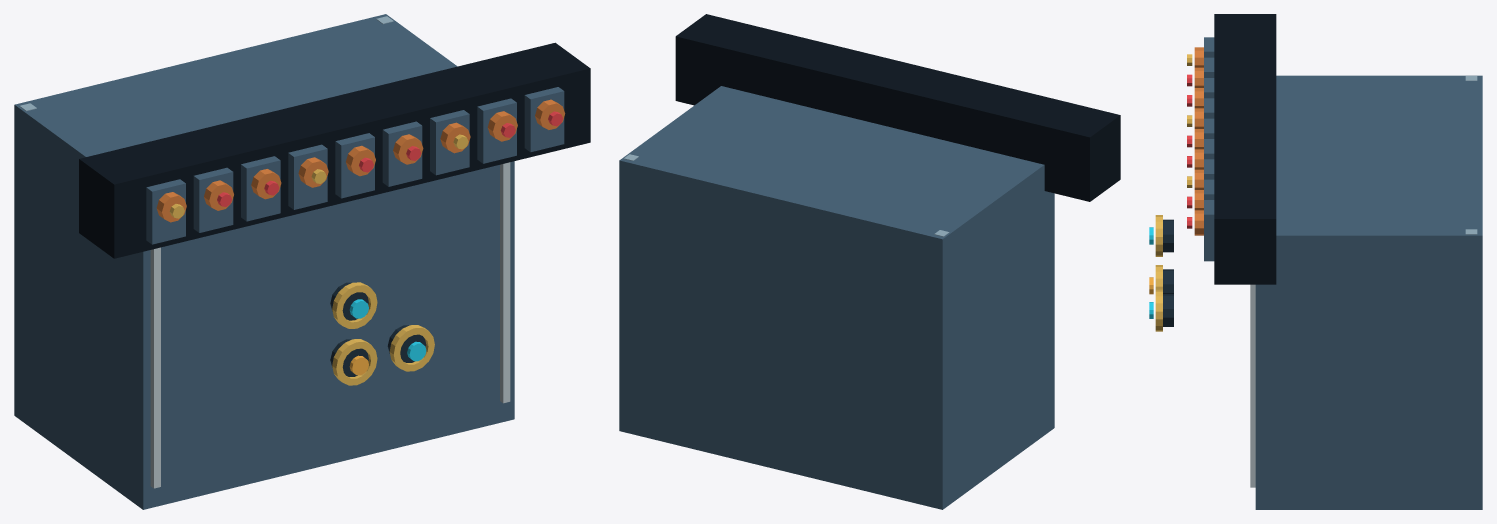
The model's file is 20_L83_SolarArrayCombinerBox.fbx.
3 views of the same model, side by side, from view 1: azimuth 30°, elevation 25°; view 2: azimuth 150°, elevation 25°; view 3: azimuth 270°, elevation 25° (orthographic). The views are drawn at different scales.
Parts seen in each view (by area): view 1: SolarArrayCombinerBox; view 2: SolarArrayCombinerBox; view 3: SolarArrayCombinerBox.
Part boxes in pixels (<box>): SolarArrayCombinerBox: <box>14,14,590,509</box>; SolarArrayCombinerBox: <box>619,14,1120,509</box>; SolarArrayCombinerBox: <box>1149,14,1482,509</box>.
Size of the model in its own units: 141 by 100 by 96.95.
